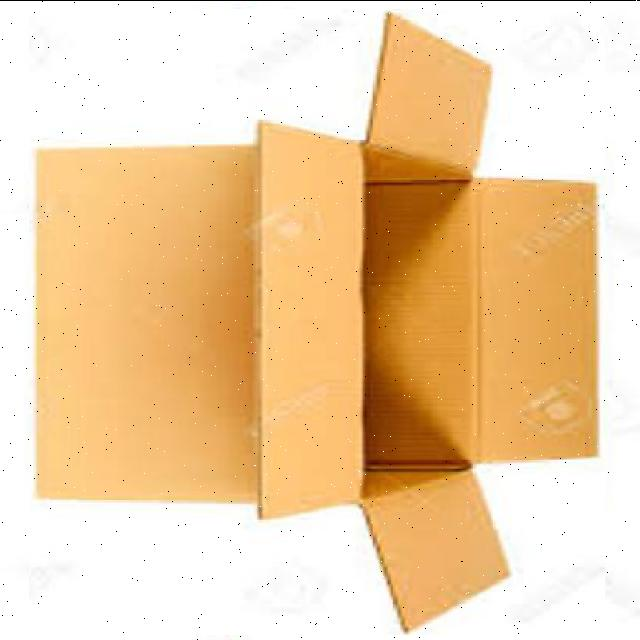defect: (29, 8, 605, 634)
